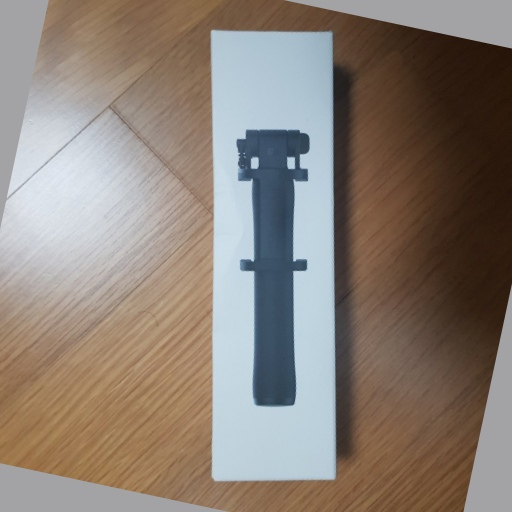Paper_0: (201, 18, 348, 488)
